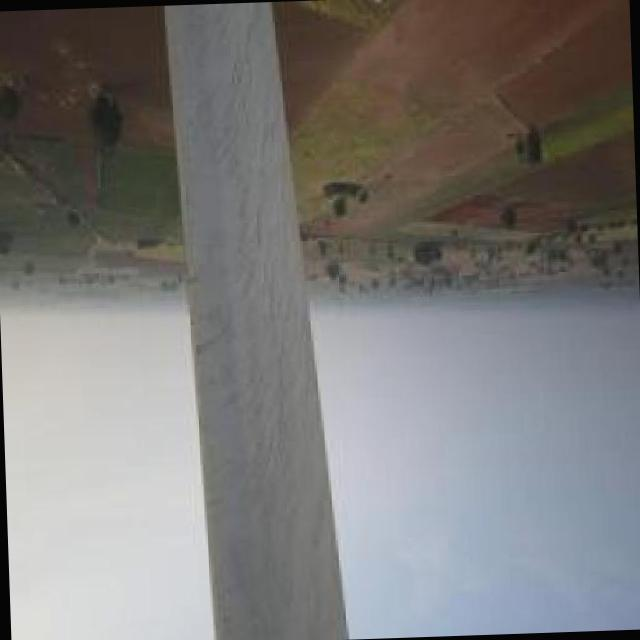Dirt: (189, 4, 356, 640)
